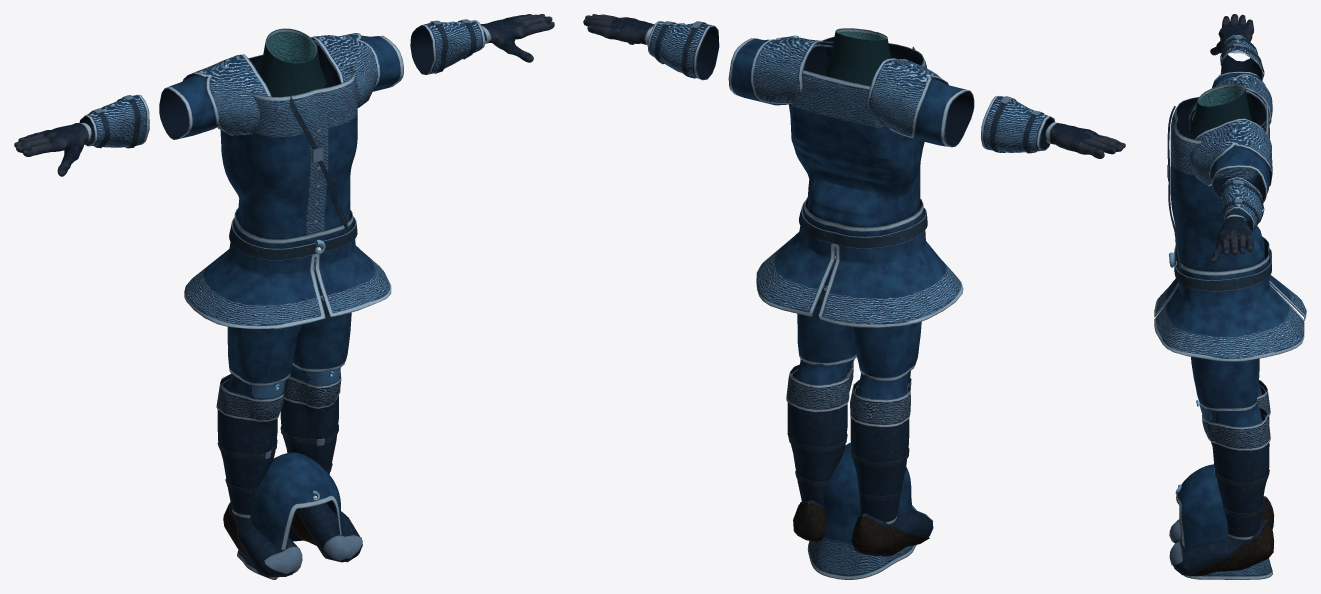
Rendered from light_abyssal.glb.
3 renders of one model, left to right at view 1: azimuth 30°, elevation 25°; view 2: azimuth 150°, elevation 25°; view 3: azimuth 270°, elevation 25°, orthographic. The views are drawn at different scales.
Visible parts, largest first — view 1: chest, feet, gloves, legs, hood; view 2: chest, feet, gloves, legs, hood; view 3: chest, feet, gloves, legs, hood.
Part boxes in pixels (bbox=[...]): chest: bbox=[159, 28, 403, 328]; feet: bbox=[216, 371, 362, 577]; gloves: bbox=[14, 14, 554, 176]; legs: bbox=[225, 261, 351, 399]; hood: bbox=[237, 452, 347, 579]; chest: bbox=[728, 28, 974, 327]; feet: bbox=[786, 364, 933, 556]; gloves: bbox=[583, 14, 1125, 158]; legs: bbox=[795, 250, 921, 399]; hood: bbox=[807, 442, 916, 579]; chest: bbox=[1154, 71, 1306, 361]; feet: bbox=[1169, 380, 1274, 576]; gloves: bbox=[1210, 14, 1264, 262]; legs: bbox=[1191, 357, 1262, 426]; hood: bbox=[1175, 464, 1272, 579].
Bounding box in the file's own units: 1.8 × 1.7 × 0.4885.
5 materials, 5 textured.
